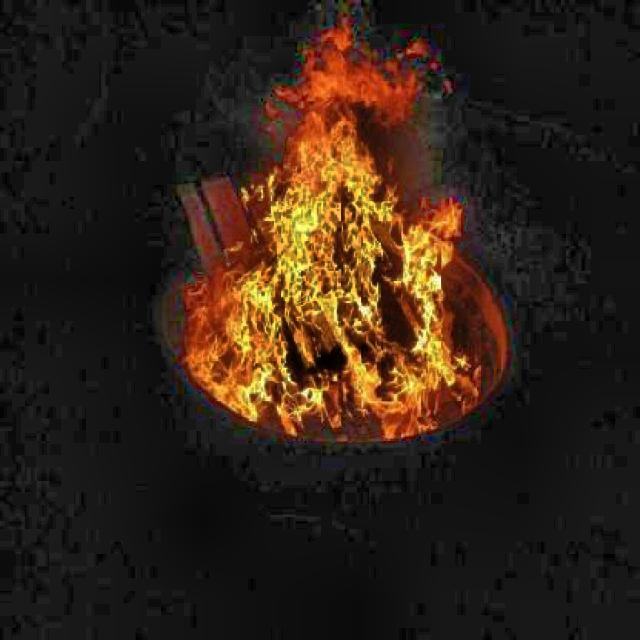Fire: (187, 16, 482, 438)
